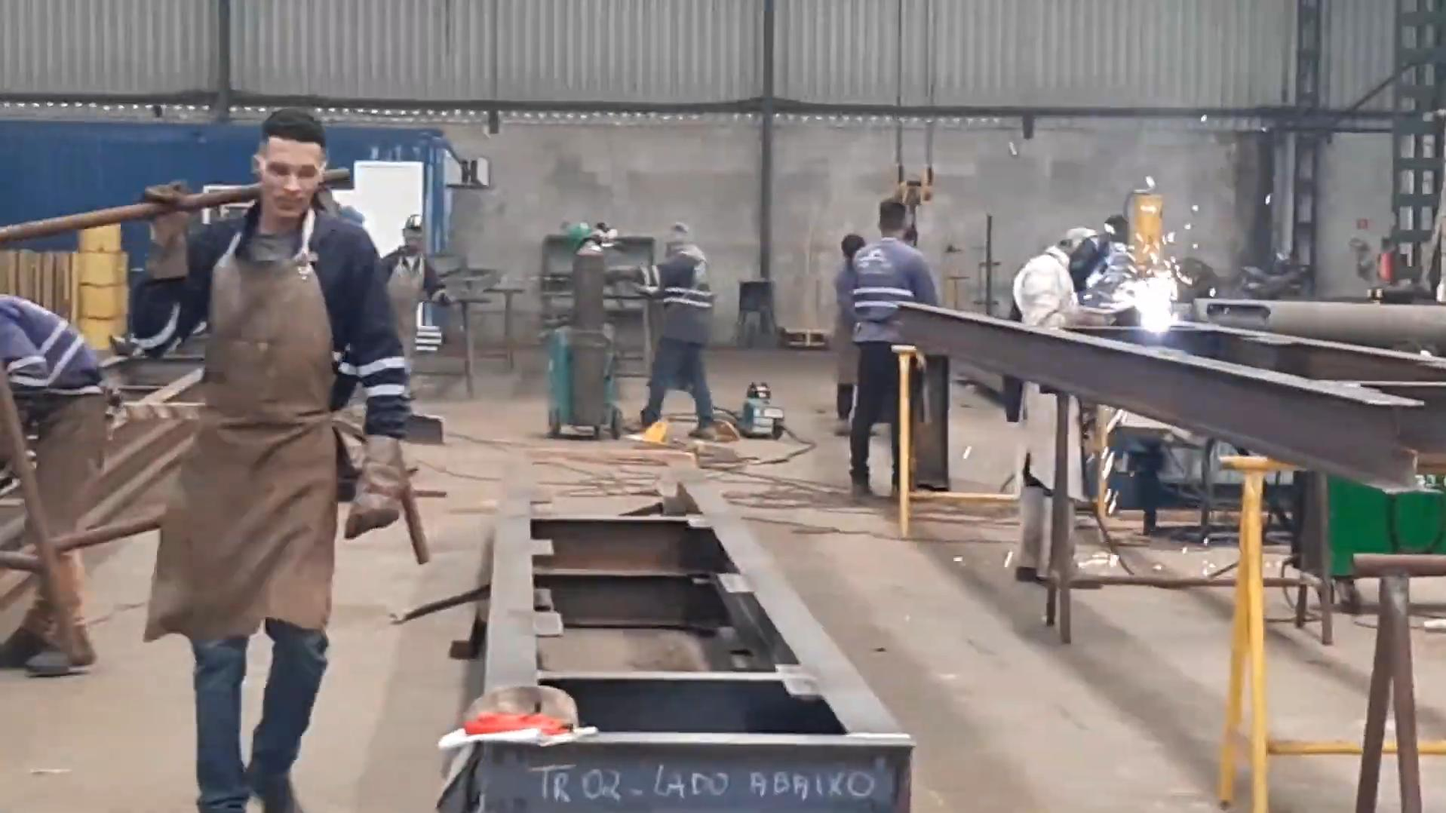boots: (48, 594, 96, 667), (250, 769, 308, 811), (1, 620, 46, 664), (1015, 554, 1072, 581), (849, 444, 870, 499), (834, 384, 855, 437), (639, 405, 662, 434), (1014, 565, 1043, 583), (687, 422, 715, 440)
gloves: (345, 435, 407, 538), (143, 183, 189, 280), (343, 474, 402, 541), (143, 182, 192, 238), (431, 283, 455, 308)
goggles: (665, 242, 700, 259)
vest: (840, 198, 938, 498), (305, 213, 409, 438), (131, 210, 260, 355), (640, 244, 714, 346)
